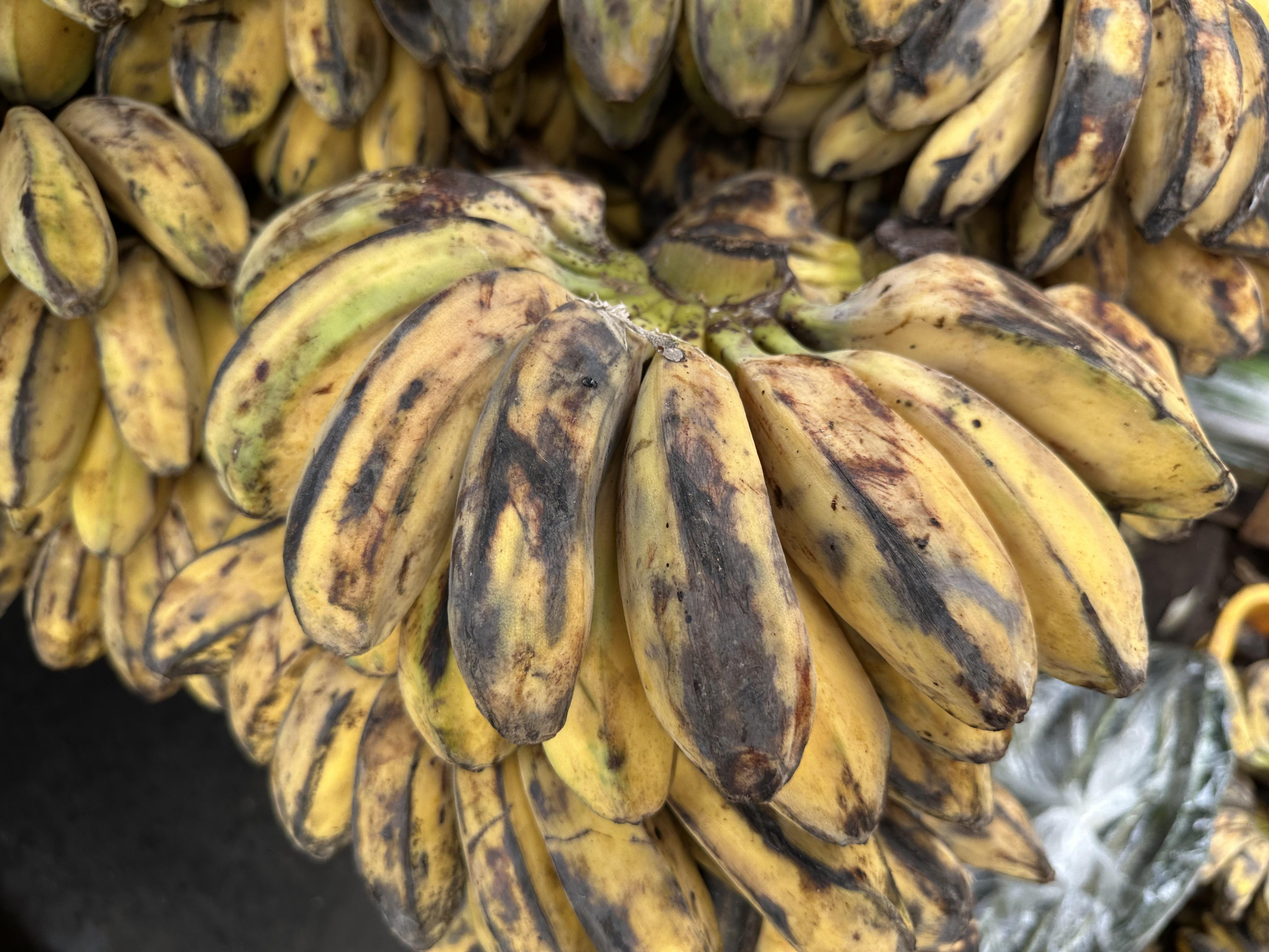ripe: (203, 168, 1234, 845), (149, 519, 1051, 952), (810, 0, 1269, 276), (0, 96, 250, 556), (96, 0, 450, 204), (0, 462, 260, 700), (1047, 193, 1269, 375)
underripe: (559, 0, 812, 148)
